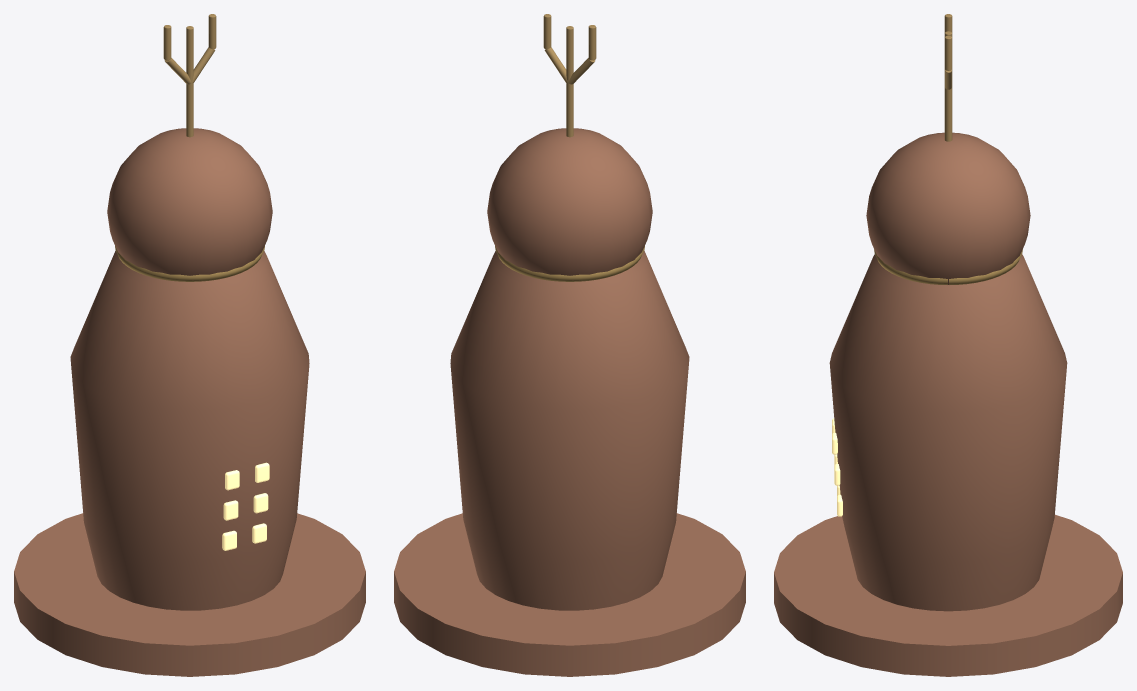
The picture shows the model from 3 angles, left to right: view 1: azimuth 30°, elevation 25°; view 2: azimuth 150°, elevation 25°; view 3: azimuth 270°, elevation 25°; orthographic projection.
Visible parts, largest first — view 1: Bulb shaped chamber, Foundation drum, Stacked rounded vessel, Rounded vessel collar, Aerial stem; view 2: Bulb shaped chamber, Foundation drum, Stacked rounded vessel, Rounded vessel collar, Aerial stem; view 3: Bulb shaped chamber, Foundation drum, Stacked rounded vessel, Rounded vessel collar.
Boxes of the visible parts, x1,y1,x2,y2 form: Bulb shaped chamber: [70, 251, 309, 610]; Foundation drum: [14, 513, 365, 676]; Stacked rounded vessel: [107, 128, 272, 275]; Rounded vessel collar: [115, 246, 264, 281]; Aerial stem: [186, 26, 193, 137]; Bulb shaped chamber: [450, 251, 689, 610]; Foundation drum: [394, 513, 745, 676]; Stacked rounded vessel: [487, 128, 652, 275]; Rounded vessel collar: [495, 246, 644, 281]; Aerial stem: [566, 26, 573, 137]; Bulb shaped chamber: [829, 254, 1067, 611]; Foundation drum: [774, 514, 1122, 676]; Stacked rounded vessel: [866, 132, 1030, 284]; Rounded vessel collar: [874, 249, 1022, 284].
Size of the model in its own units: 2.04 by 3.72 by 2.04.
